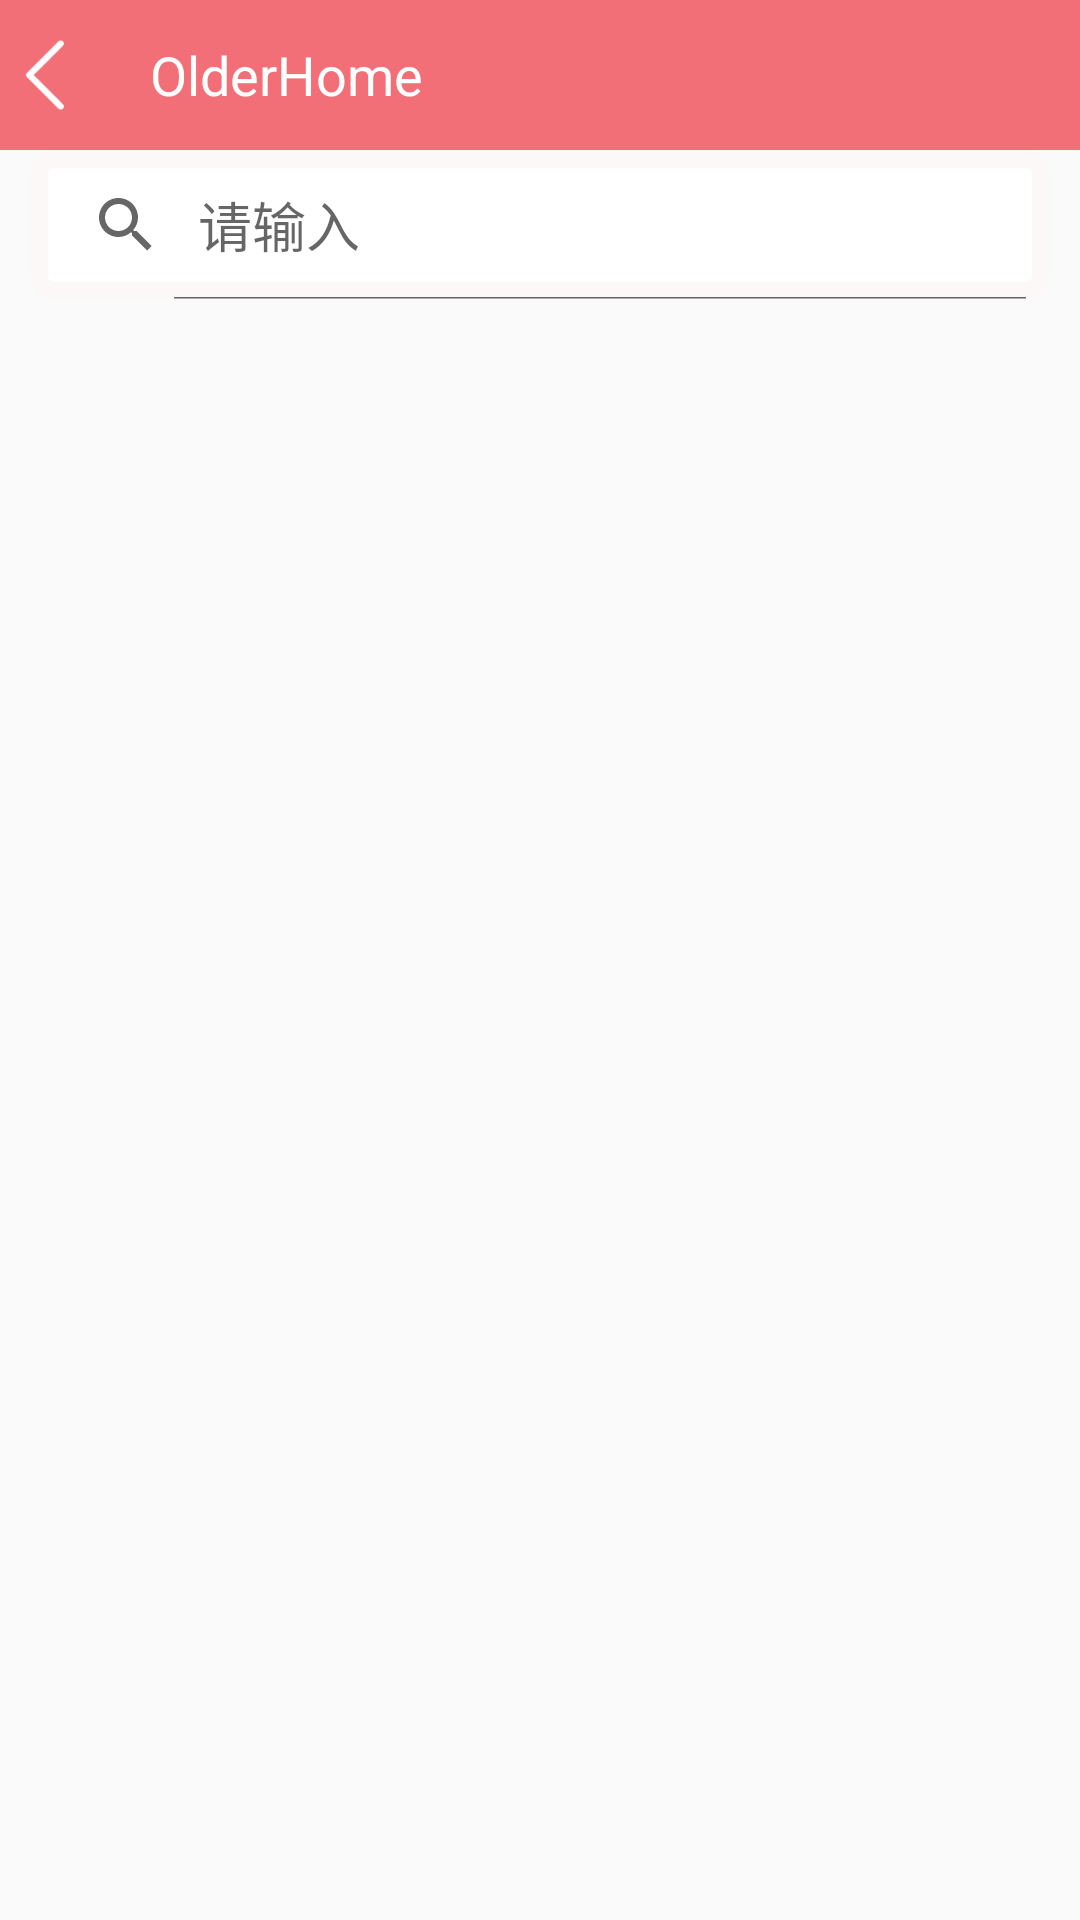

Where icons sit on this 1080x1920 app screen, as (x1, y1, x2, y2):
left arrow: (26, 40, 64, 110)
